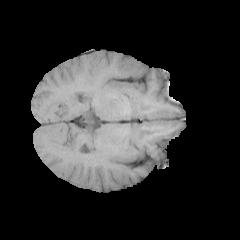glioma: (107, 55, 146, 91)
